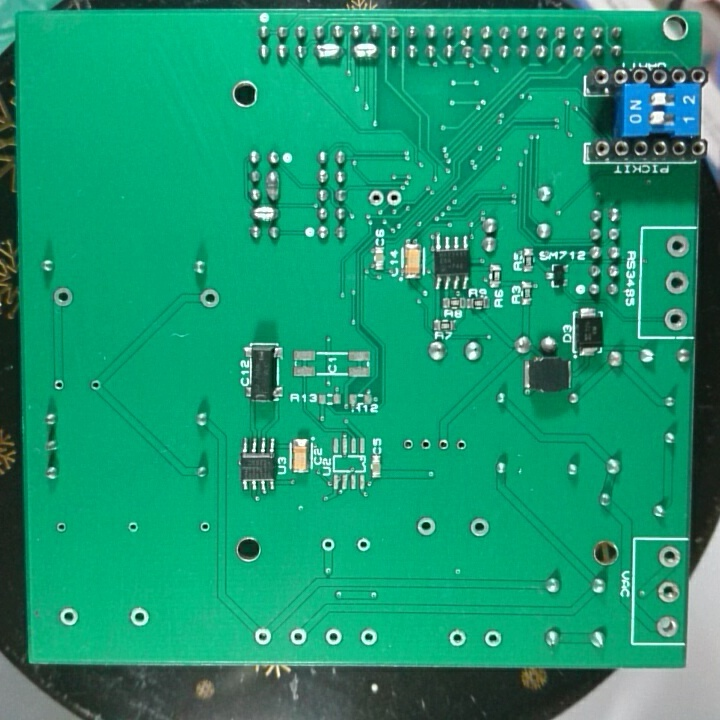F: (663, 233, 692, 262), (662, 305, 689, 335), (467, 513, 494, 543), (654, 544, 682, 571), (656, 577, 682, 606), (663, 268, 690, 295), (652, 613, 678, 641), (413, 514, 441, 539), (56, 604, 82, 630), (51, 284, 75, 312), (197, 286, 222, 312), (481, 625, 505, 652), (127, 605, 151, 630), (446, 626, 468, 650), (317, 532, 339, 556), (385, 185, 405, 211), (322, 625, 343, 649), (288, 626, 309, 650), (252, 624, 273, 647), (357, 626, 379, 647), (365, 186, 385, 209), (354, 533, 373, 557), (451, 436, 468, 456), (53, 519, 71, 537), (416, 437, 434, 455), (124, 517, 141, 536), (434, 436, 451, 455), (195, 518, 212, 535), (51, 377, 68, 394), (400, 436, 417, 452), (88, 377, 104, 394)
P: (312, 40, 343, 63), (263, 169, 283, 204), (248, 204, 282, 223), (349, 40, 379, 60)
